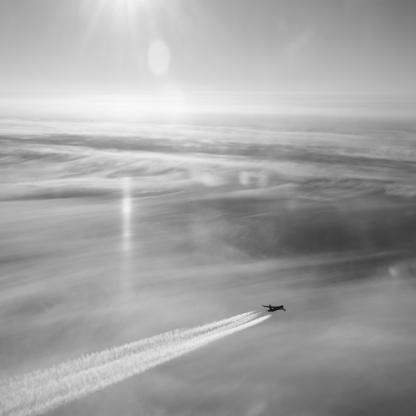B52: (263, 306, 287, 314)
